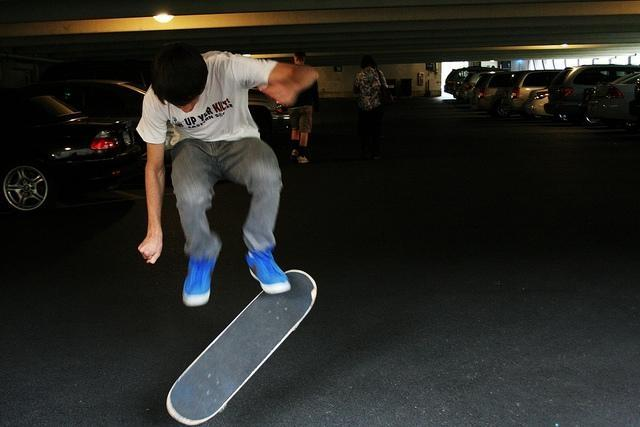car: (1, 92, 142, 219), (545, 65, 640, 124), (38, 79, 146, 128), (40, 58, 152, 88), (587, 72, 640, 128), (508, 68, 562, 115), (468, 68, 517, 117), (248, 86, 292, 134), (444, 67, 502, 98), (528, 89, 568, 122), (454, 71, 493, 103)
